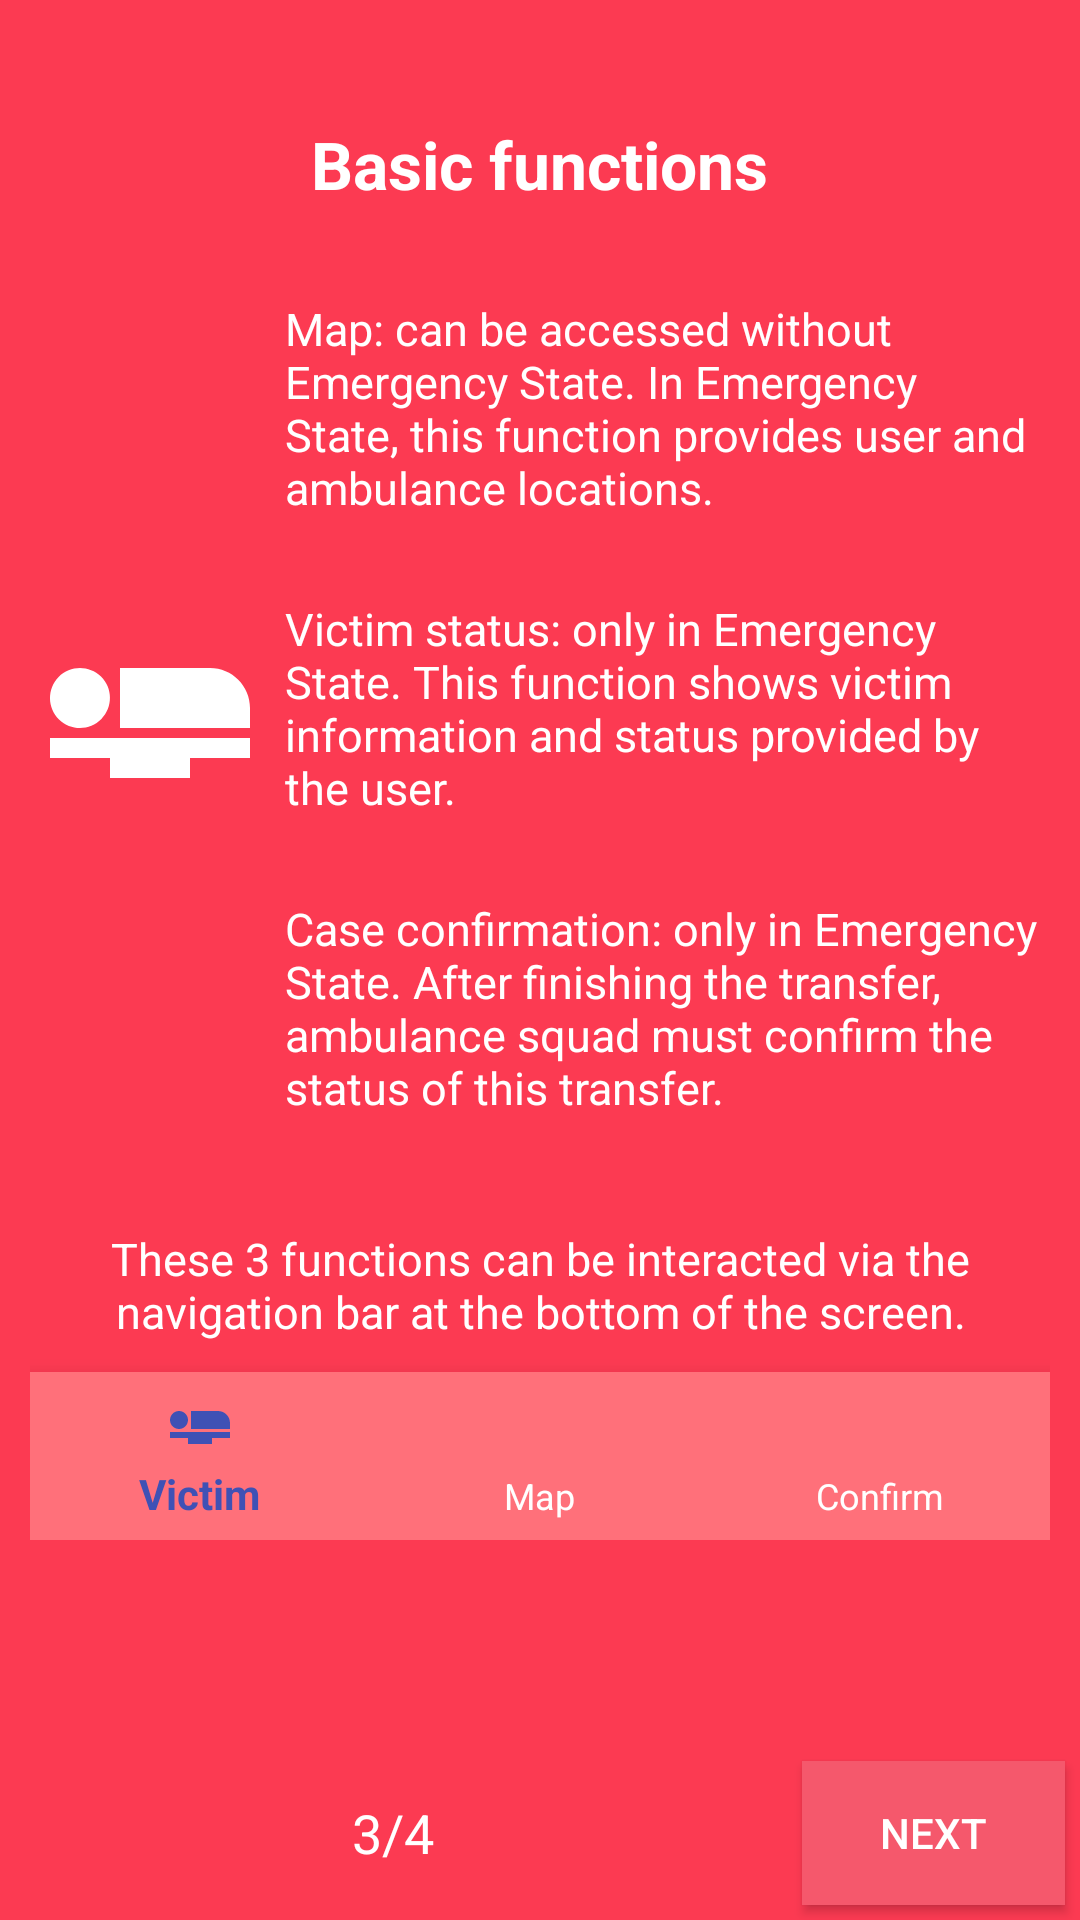

Where icons sit on this 1080px x 1920px app screen, as bbox(x1, y1, x2, y2):
patient: bbox(50, 668, 250, 778)
